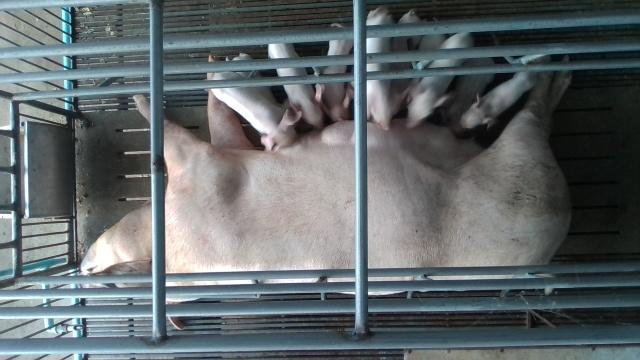piglet: (212, 72, 302, 151), (408, 33, 473, 129), (267, 44, 325, 130), (460, 71, 536, 130), (367, 8, 401, 130), (435, 58, 496, 124), (316, 40, 355, 121)
sow-sleep-lactate: (83, 56, 575, 296)
